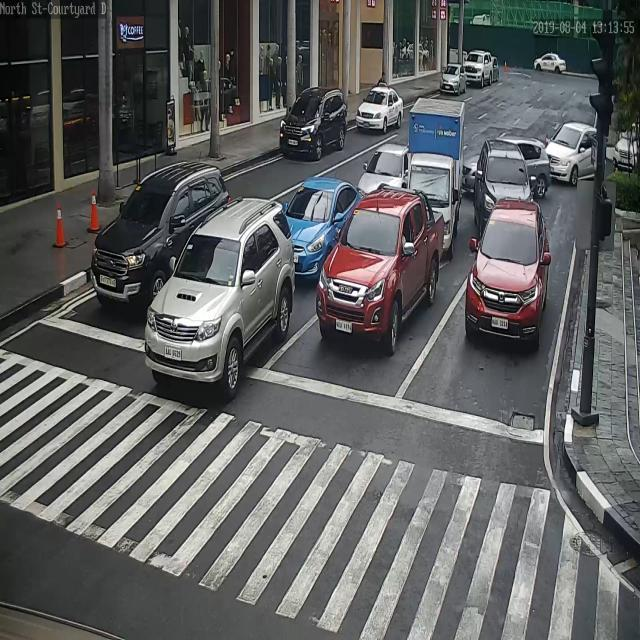car: (144, 201, 296, 392), (316, 186, 443, 348), (92, 163, 231, 307), (465, 196, 549, 347), (282, 180, 359, 280), (473, 138, 534, 239), (279, 86, 348, 161), (463, 138, 551, 195), (546, 123, 595, 182), (356, 144, 408, 194), (356, 86, 404, 131), (613, 120, 640, 168), (464, 50, 492, 85), (440, 63, 466, 95), (534, 52, 566, 73), (491, 55, 500, 81)
motorcycle: (408, 98, 463, 251)
